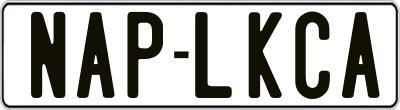A: (74, 12, 115, 102), (339, 10, 377, 96)
C: (295, 10, 335, 100)
K: (249, 12, 284, 102)
L: (194, 10, 236, 96)
N: (30, 9, 70, 96)
P: (128, 11, 166, 98)
